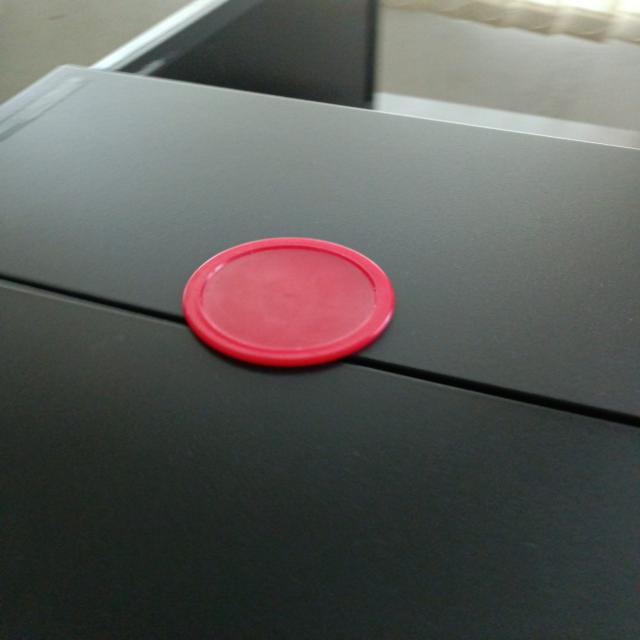chip: (176, 234, 402, 372)
